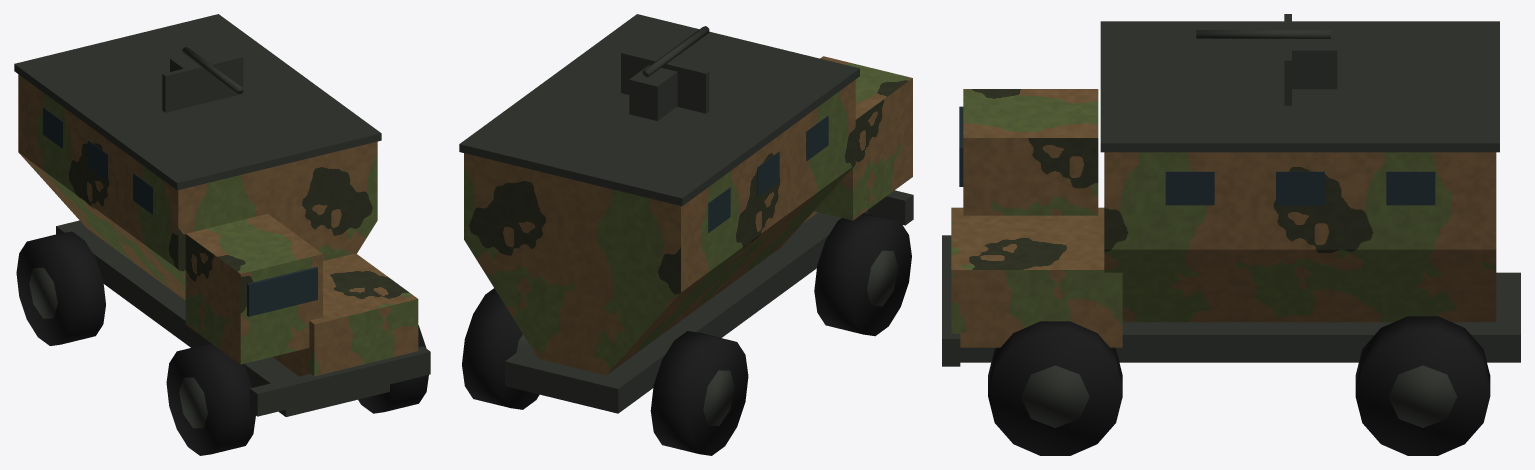
File: buffel.fbx
3 renders of one model, left to right at view 1: azimuth 30°, elevation 25°; view 2: azimuth 150°, elevation 25°; view 3: azimuth 270°, elevation 25°, orthographic. The views are drawn at different scales.
Visible parts, largest first — view 1: Body, Wheel.001, Wheel, Wheel.002; view 2: Body, Wheel.001, Wheel, Wheel.003; view 3: Body, Wheel.003, Wheel.002.
Boxes of the visible parts, x1,y1,x2,y2 form: Body: (14,14,430,416); Wheel.001: (16,231,105,345); Wheel: (166,343,255,455); Wheel.002: (358,325,428,413); Body: (459,14,913,413); Wheel.001: (650,331,748,455); Wheel: (814,213,911,336); Wheel.003: (462,288,539,409); Body: (942,14,1520,366); Wheel.003: (1355,316,1490,455); Wheel.002: (988,321,1122,455).
Size of the model in its own units: 2.42 by 3.28 by 4.72.
